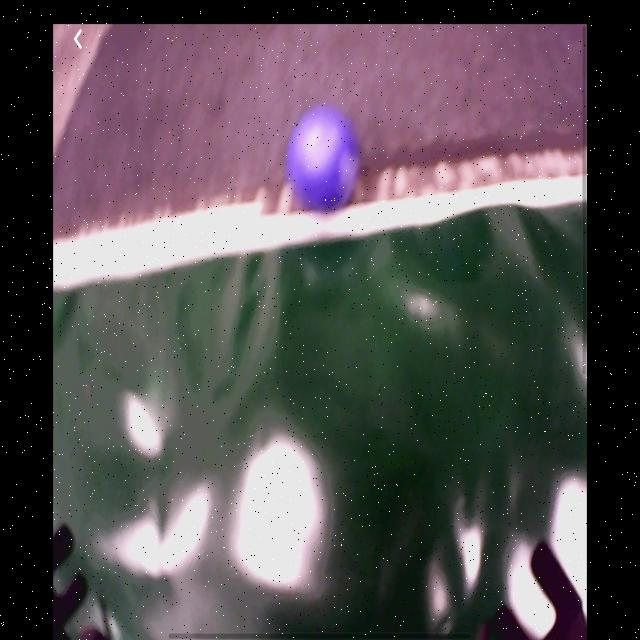ball: (288, 106, 357, 211)
